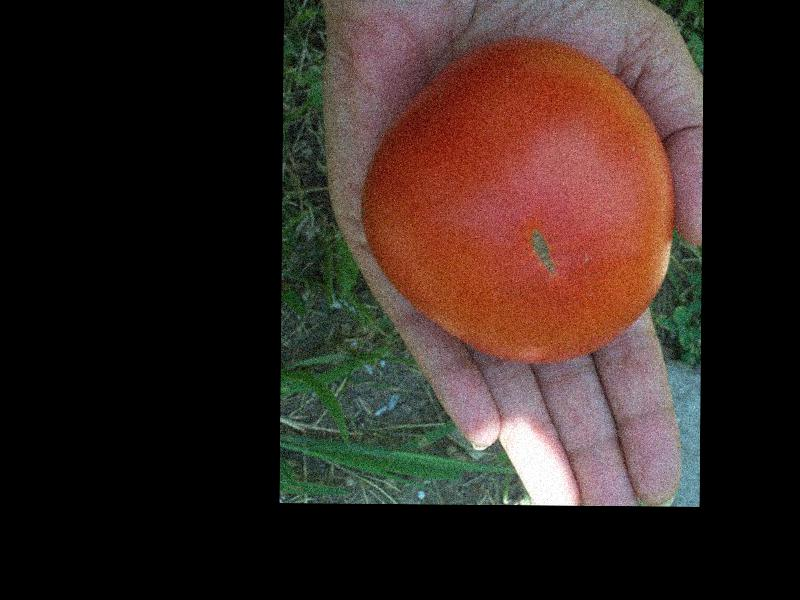Tomato: (359, 40, 675, 363)
